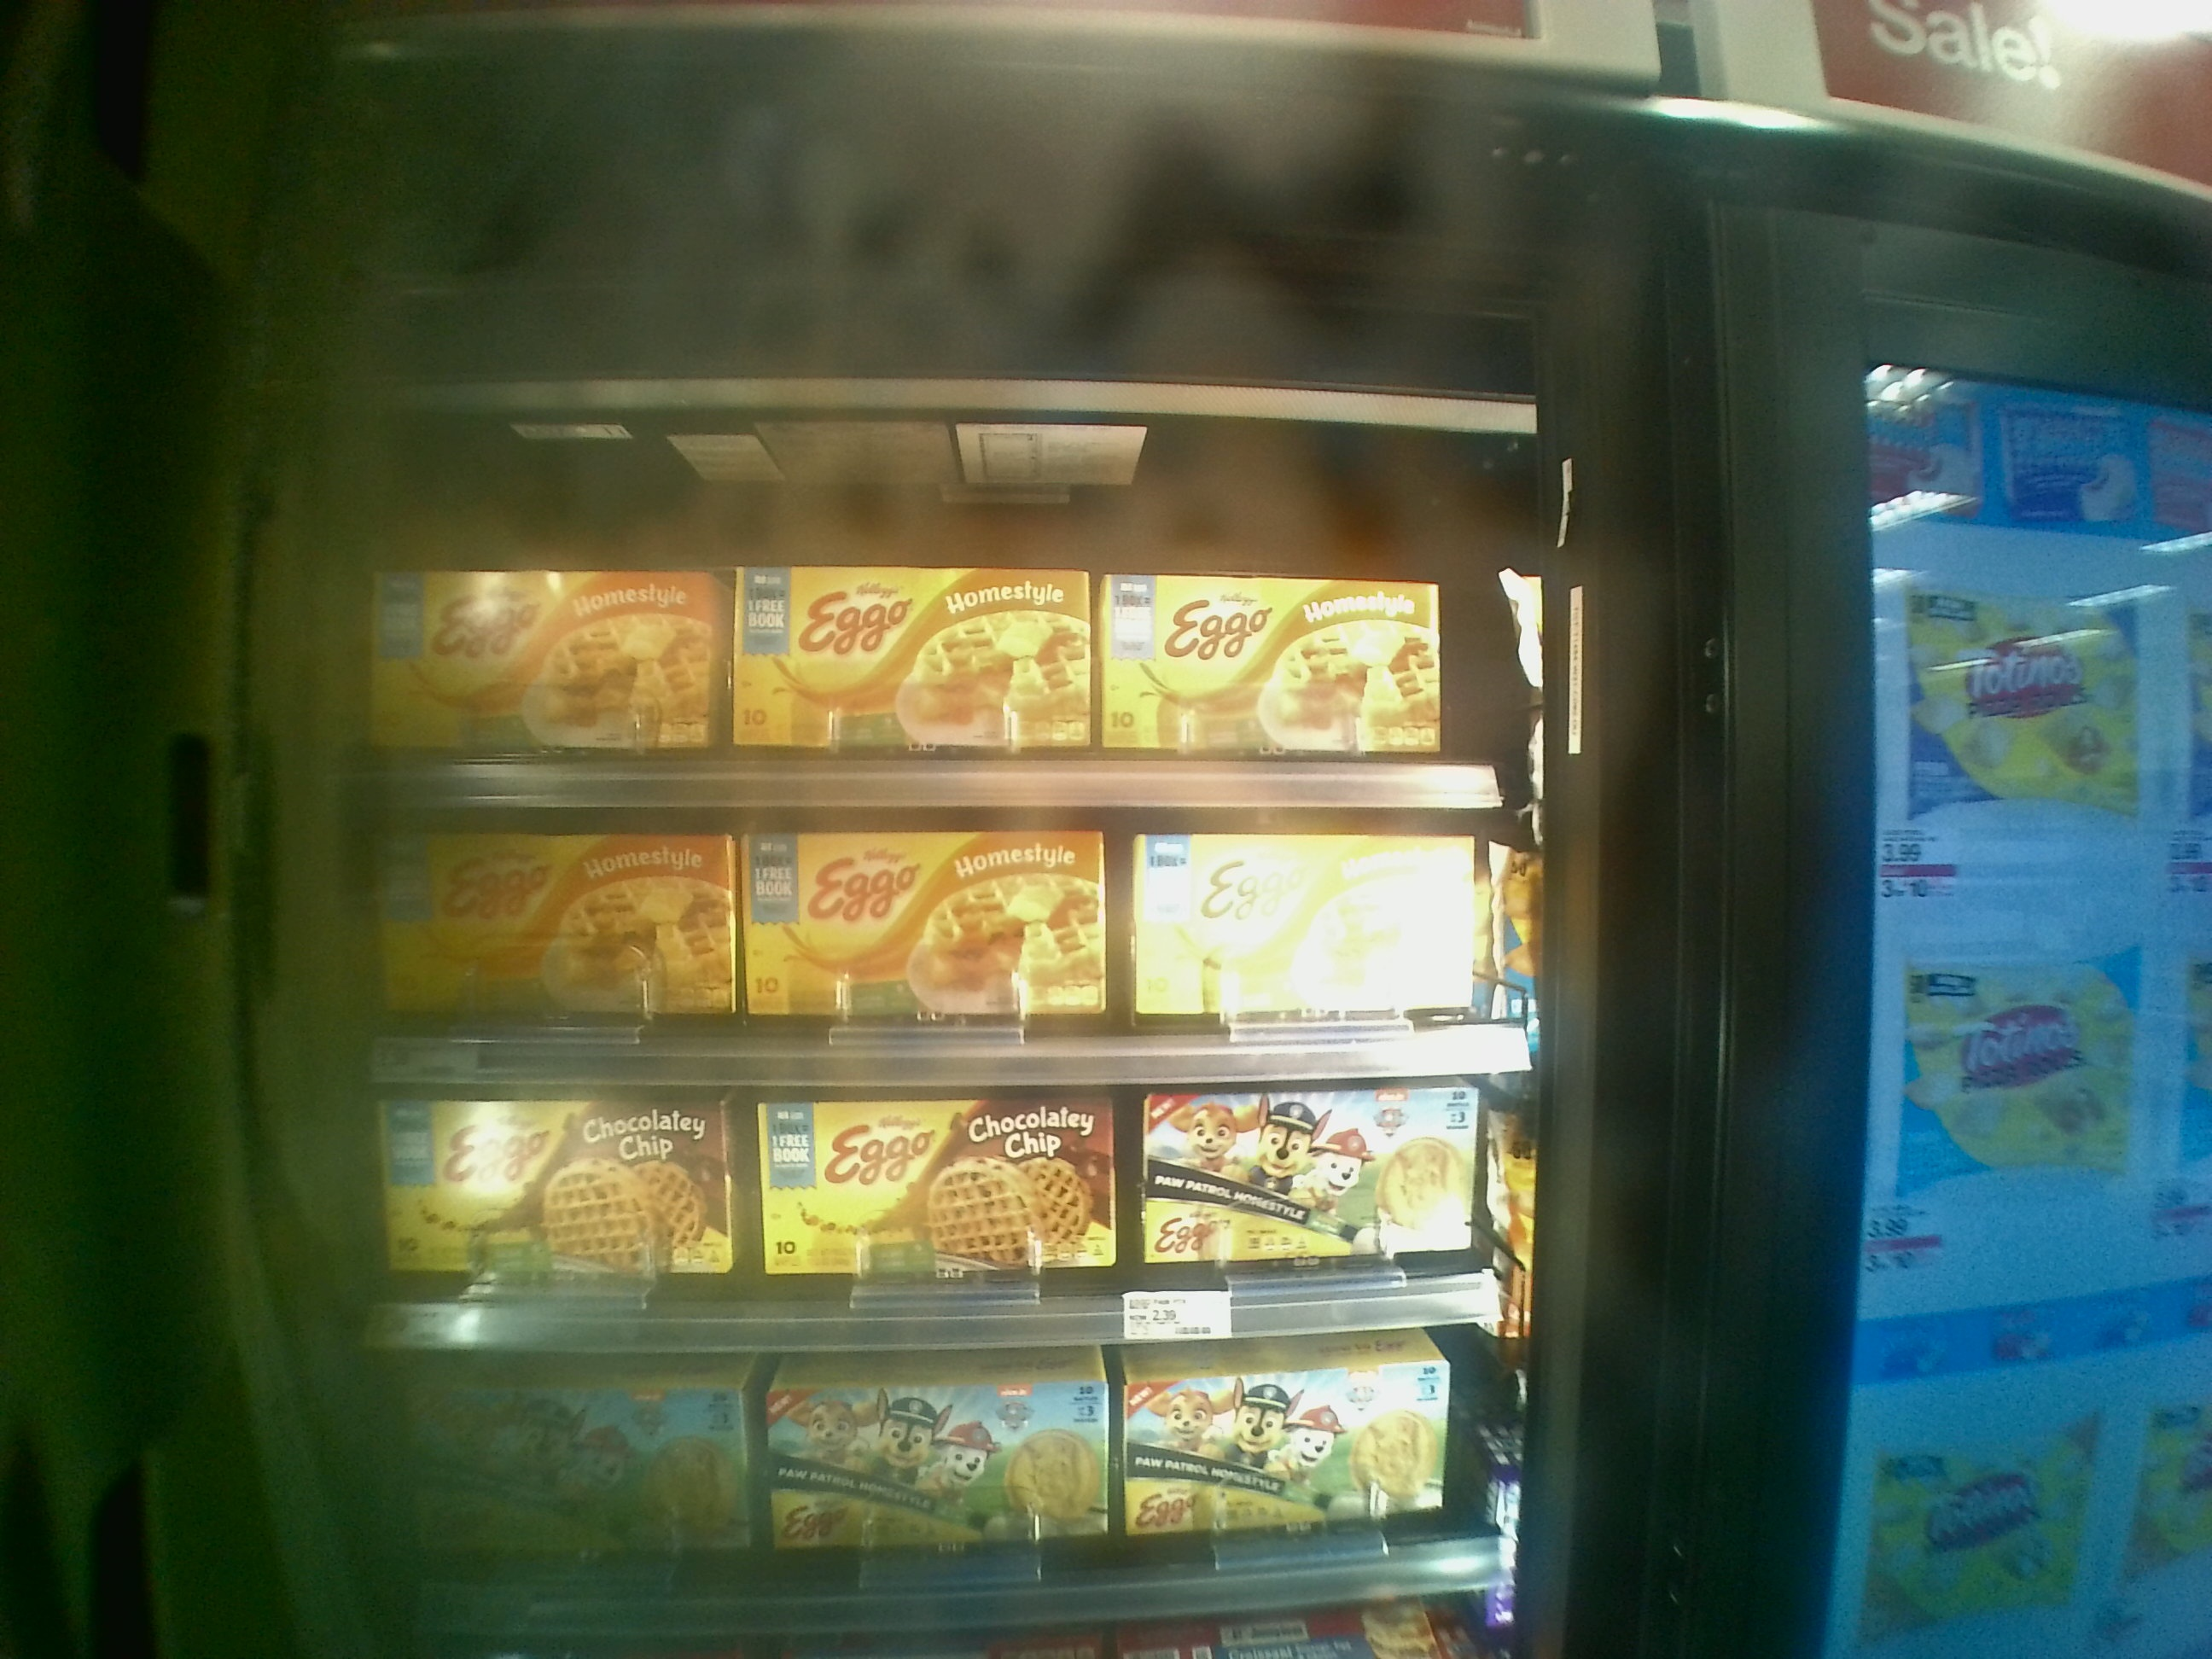frozen-food-shelf: (347, 376, 1514, 812), (366, 1073, 1515, 1356)
